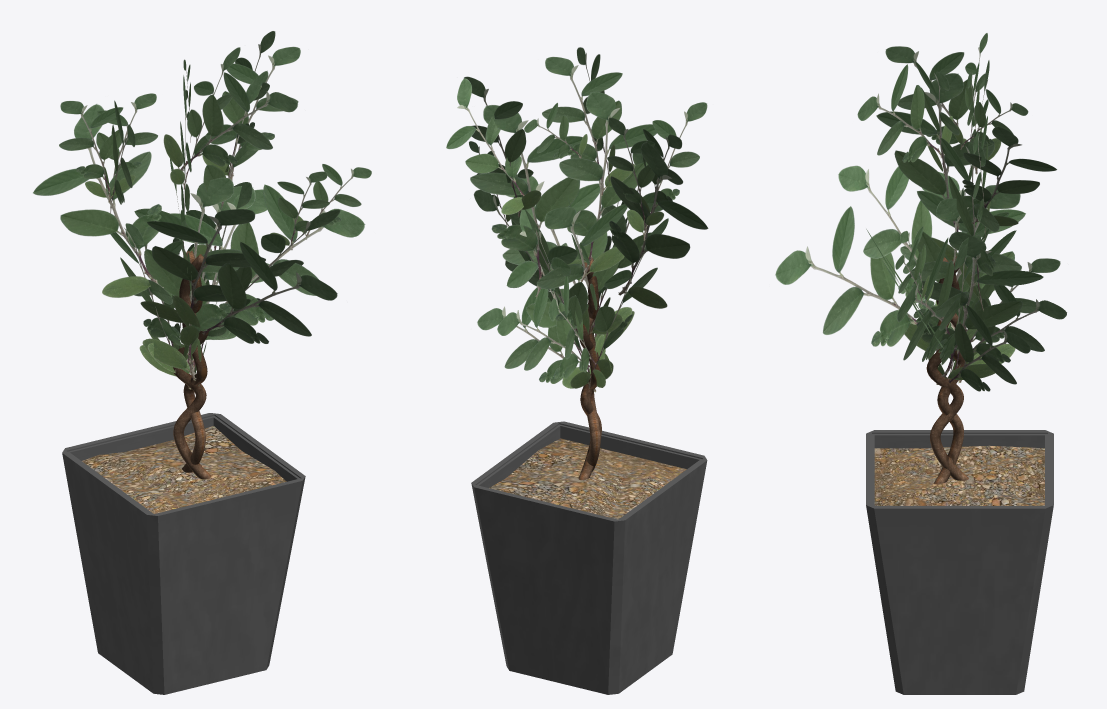
File: sf-ficus-tree.glb
3 views of the same model, side by side, from view 1: azimuth 30°, elevation 25°; view 2: azimuth 150°, elevation 25°; view 3: azimuth 270°, elevation 25° (orthographic). The views are drawn at different scales.
Visible parts, largest first — view 1: Box001_pot_0, Plane001_plant2_0, Object001_dirt_0, Plane003_plant3_0, barl2_bark_0; view 2: Box001_pot_0, Plane001_plant2_0, Object001_dirt_0, Plane003_plant3_0, barl2_bark_0; view 3: Plane001_plant2_0, Box001_pot_0, Object001_dirt_0, Plane003_plant3_0, barl2_bark_0.
Boxes of the visible parts, left/top/right/bottom form: Box001_pot_0: left=62, top=413, right=305, bottom=694; Plane001_plant2_0: left=33, top=31, right=371, bottom=374; Object001_dirt_0: left=82, top=426, right=286, bottom=513; Plane003_plant3_0: left=134, top=177, right=256, bottom=389; barl2_bark_0: left=173, top=251, right=211, bottom=479; Box001_pot_0: left=471, top=421, right=707, bottom=694; Plane001_plant2_0: left=446, top=47, right=708, bottom=392; Object001_dirt_0: left=489, top=438, right=686, bottom=519; Plane003_plant3_0: left=497, top=196, right=611, bottom=390; barl2_bark_0: left=578, top=257, right=601, bottom=480; Plane001_plant2_0: left=775, top=33, right=1060, bottom=391; Box001_pot_0: left=866, top=430, right=1053, bottom=694; Object001_dirt_0: left=874, top=445, right=1044, bottom=505; Plane003_plant3_0: left=909, top=198, right=1066, bottom=384; barl2_bark_0: left=926, top=254, right=968, bottom=484.
Bounding box in the file's own units: 0.7986 × 1.5 × 0.7115.
5 materials, 5 textured.
